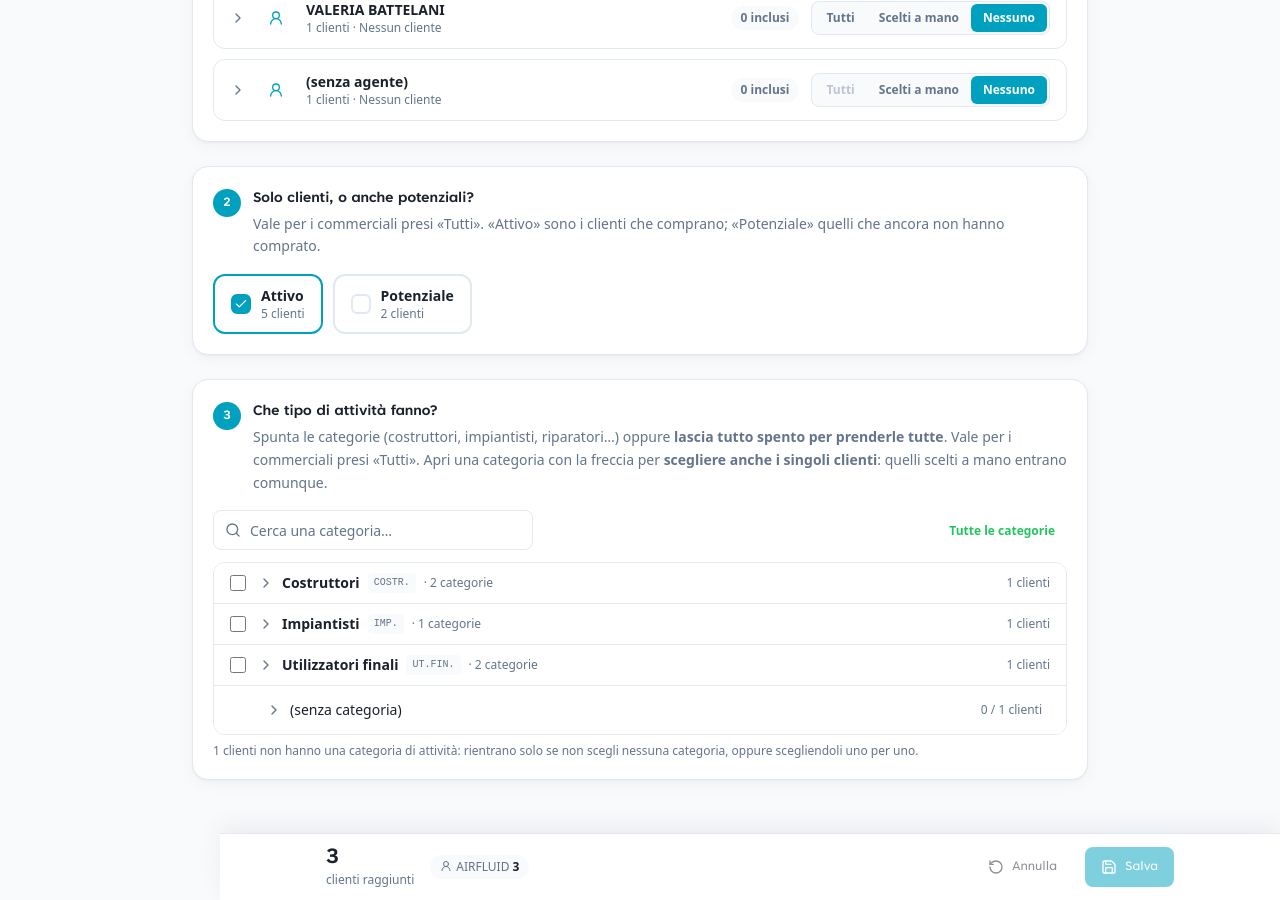
Test: pubblico standard: categorie › una singola categoria si sceglie aprendo la famiglia
The width and height of the screenshot is (1280, 900).
(page scrolled)
Click the button "Impiantisti IMP. · 1 categorie": (321, 624) [258, 614, 994, 634]
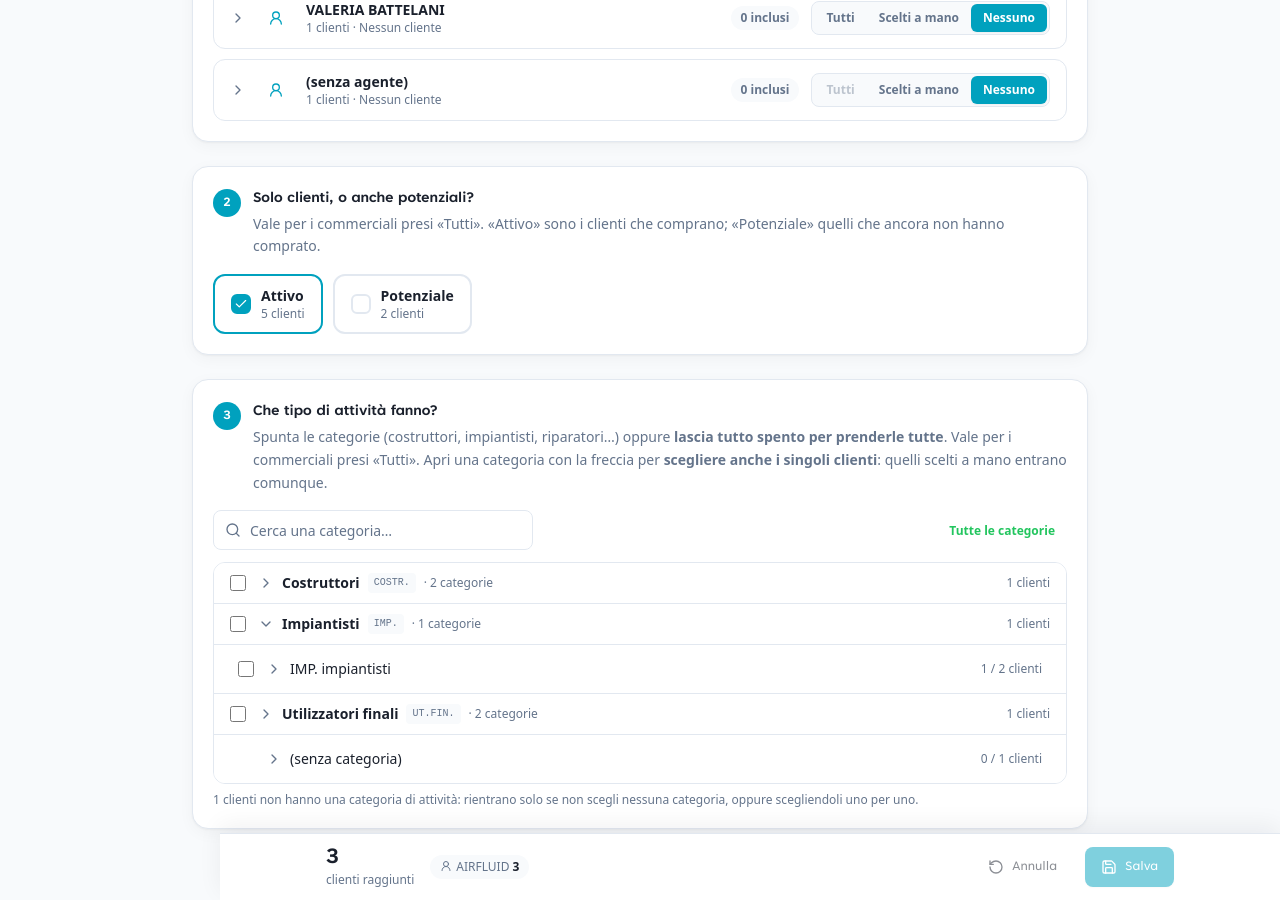
Click the checkbox named "IMP. impiantisti": (246, 669) [238, 661, 254, 677]
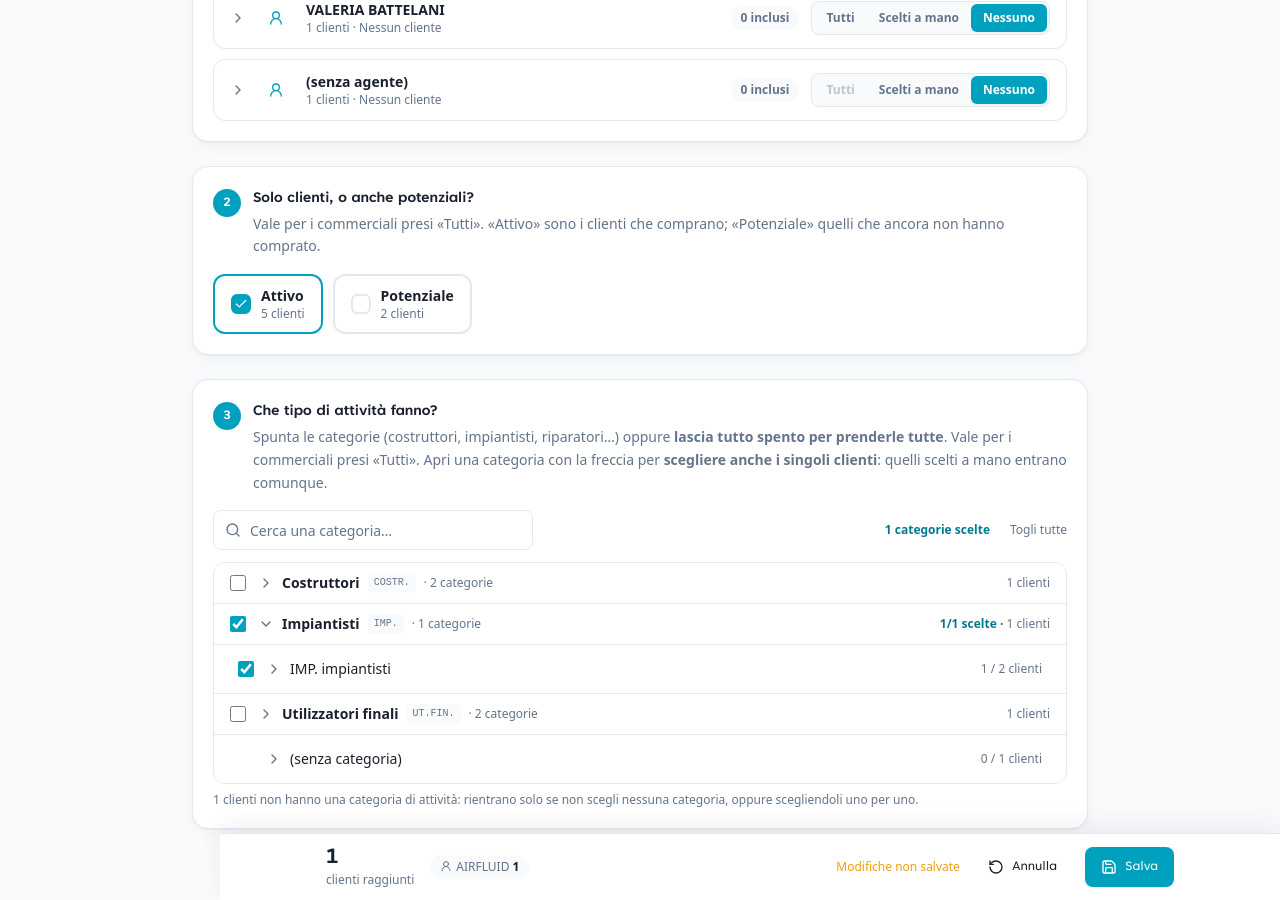
expect the 1st text "1" is shown: met, box [326, 847, 339, 869]
